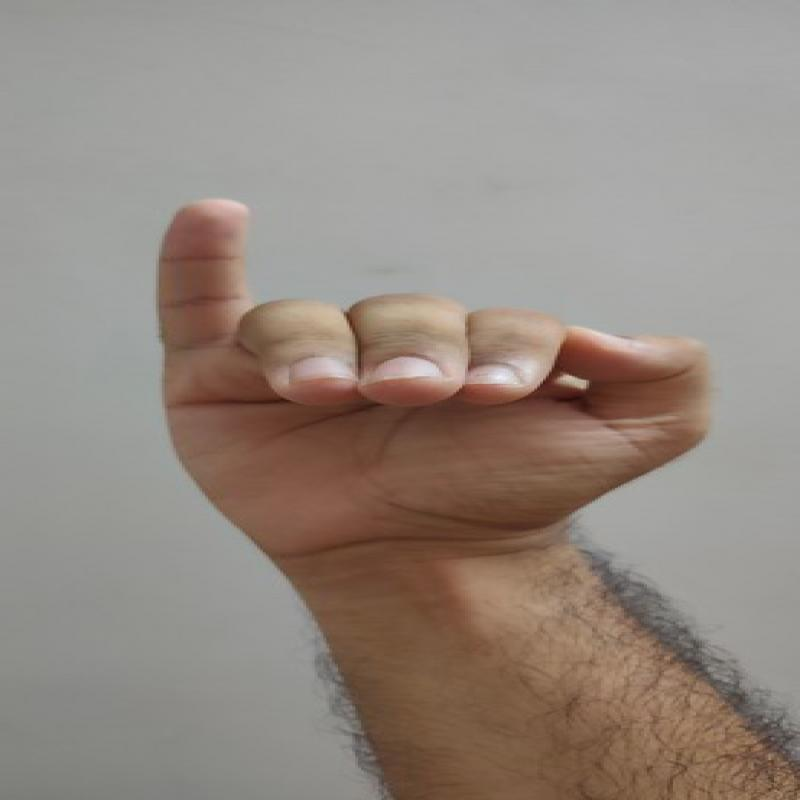Kartharee Mukham: (141, 184, 726, 578)
